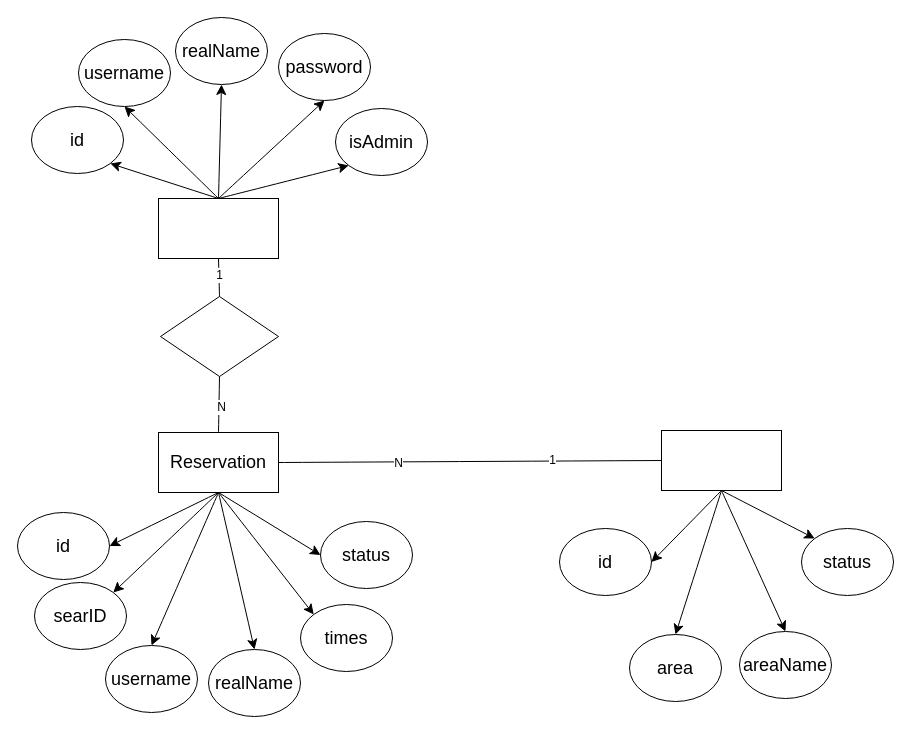
Some shapes in this 911 by 734 pixel diagram are drawn without their labels. The shapes that lost their labels are listed below. From the top down, each one's box as (x1, y1, x2, y2) in pixels, then its label:
(158, 198, 278, 258): user
(160, 296, 278, 376): 创建
(660, 430, 782, 490): Seat
